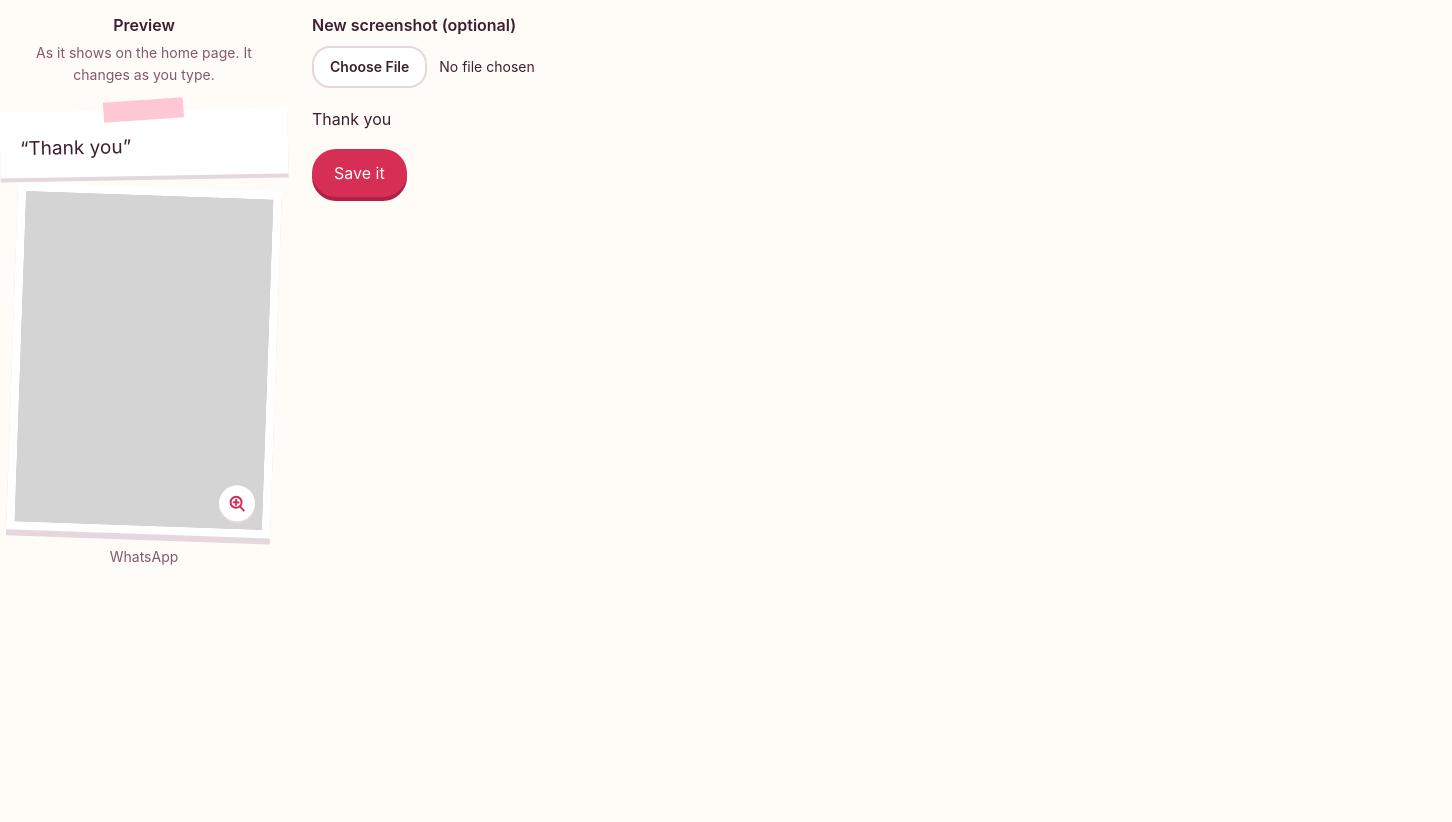
Test case: TestimonialForm › shows a save that throws
Step 1. Click the button "Save it" → (359, 173), box x1=312 y1=149 x2=407 y2=197
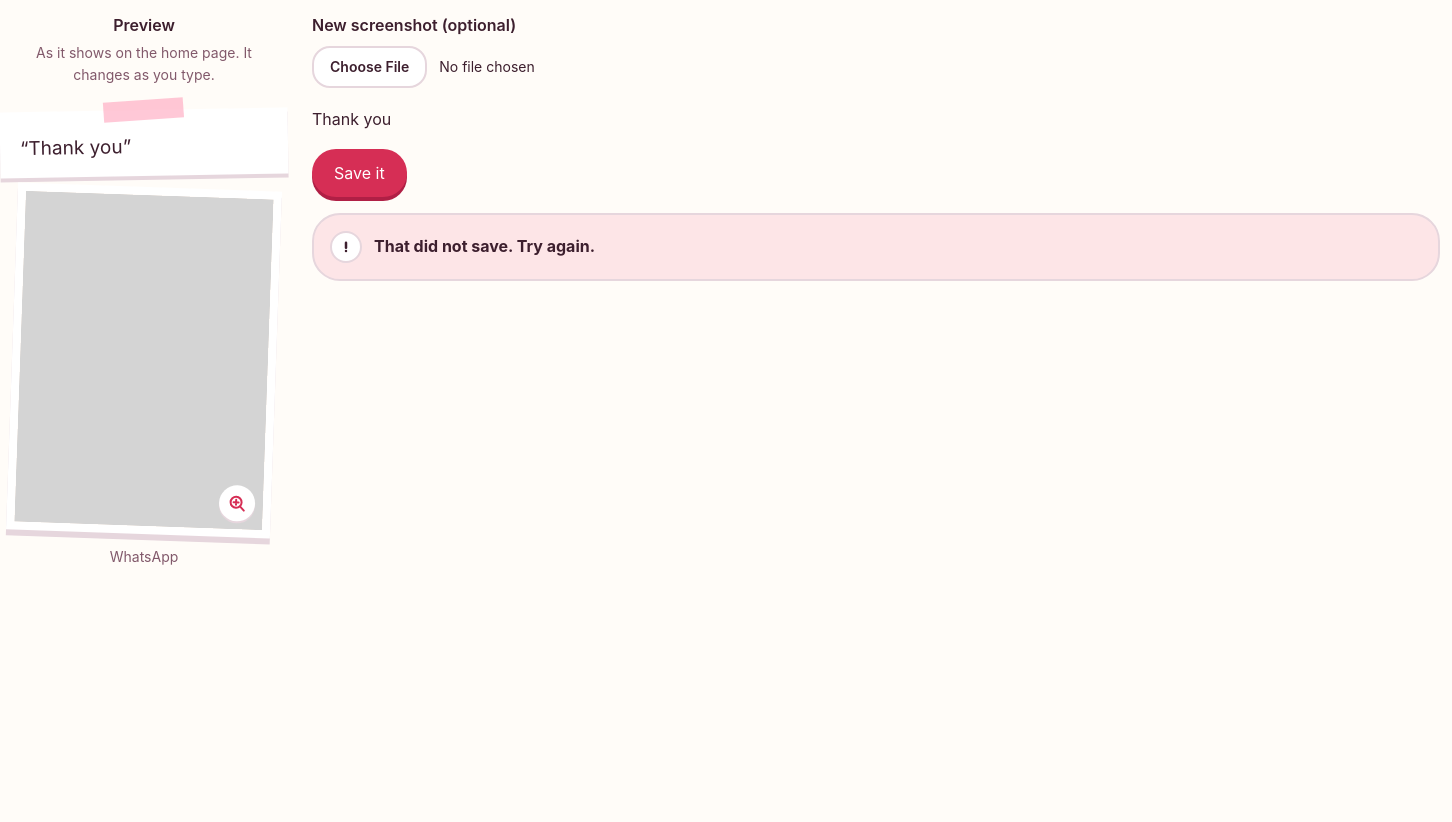
Check: the text "That did not save. Try again." is shown, box x1=374 y1=233 x2=595 y2=259
